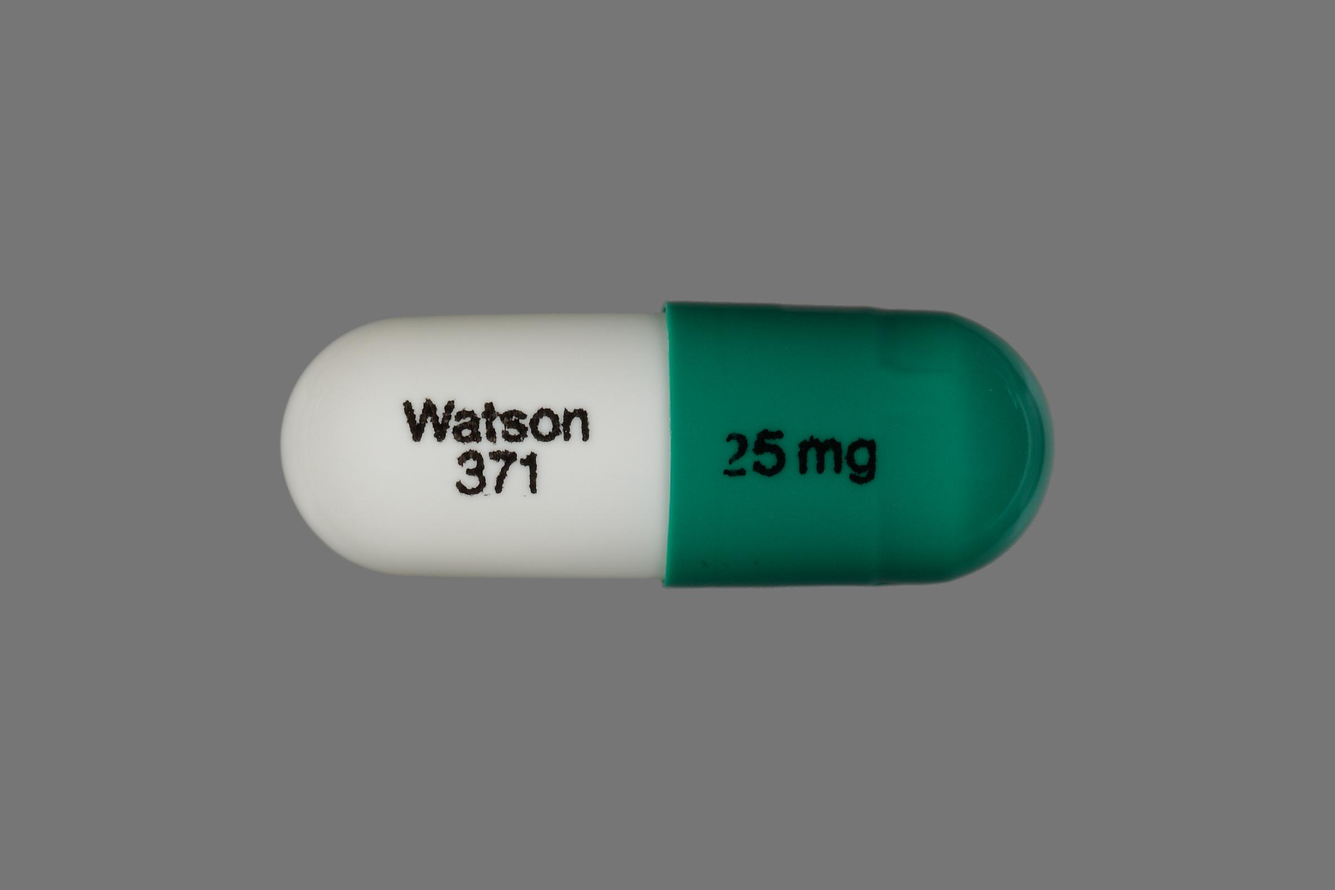Pill: (260, 275, 1075, 609)
